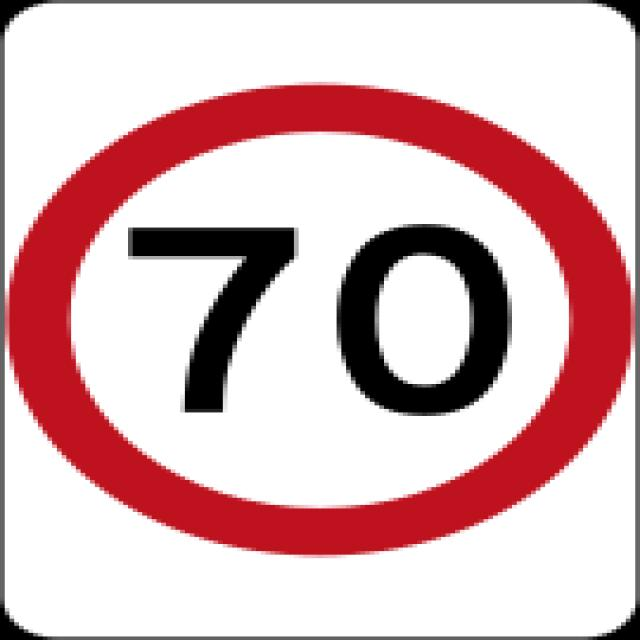Speed Limit -70-: (36, 128, 586, 532)
